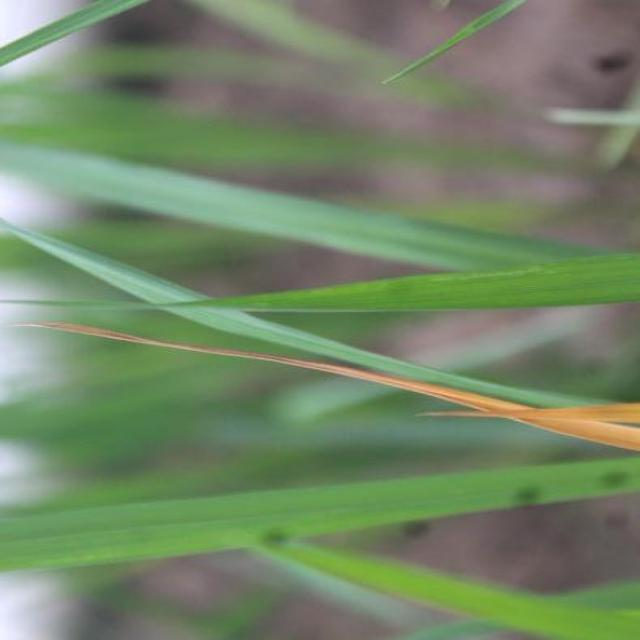Rice Tungro: (35, 322, 640, 450)
